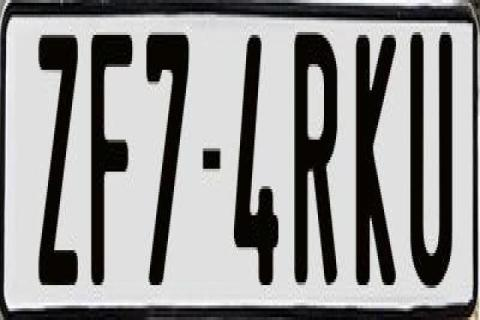0: (142, 32, 192, 285), (230, 35, 278, 285)
F: (88, 27, 134, 280)
K: (352, 29, 394, 297)
R: (292, 32, 340, 285)
U: (408, 32, 458, 296)
Z: (36, 29, 80, 297)
